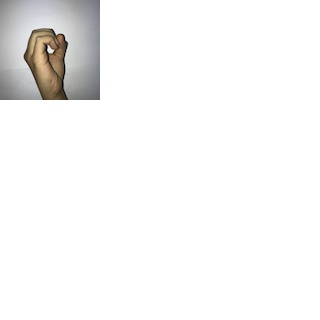rock: (18, 24, 76, 97)
